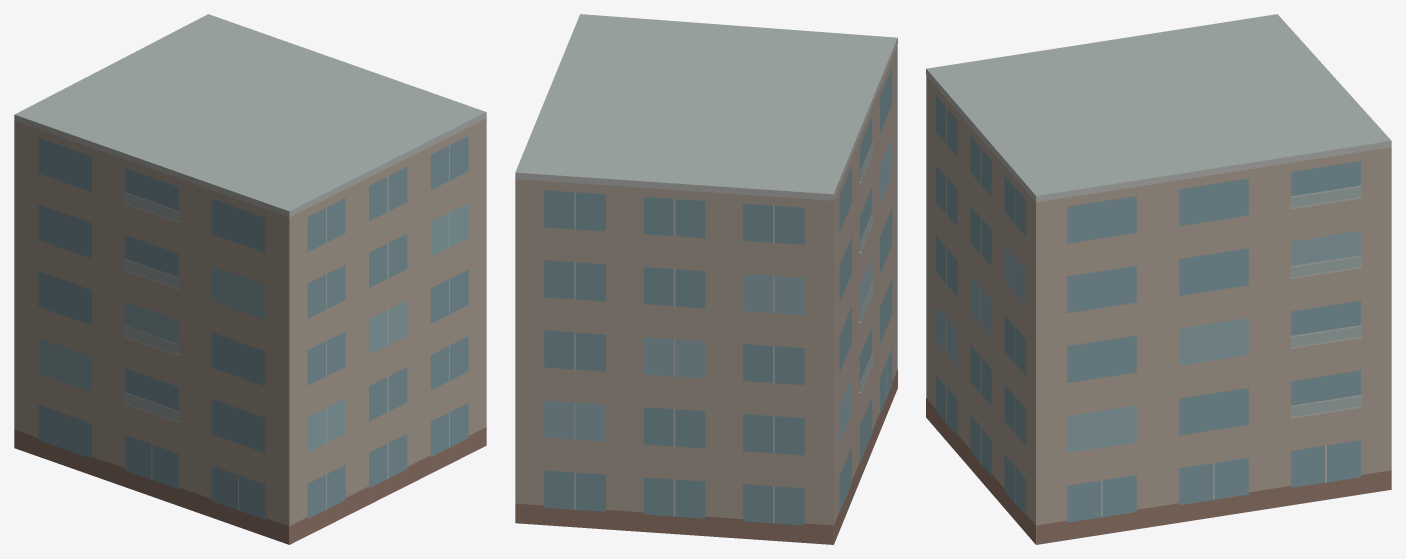
File: survey-upis-32853961.glb
3 renders of one model, left to right at view 1: azimuth 30°, elevation 25°; view 2: azimuth 150°, elevation 25°; view 3: azimuth 270°, elevation 25°, orthographic. The views are drawn at different scales.
Visible parts, largest first — view 1: survey-upis-32853961.tmp; view 2: survey-upis-32853961.tmp; view 3: survey-upis-32853961.tmp.
Part boxes in pixels (<box>): survey-upis-32853961.tmp: <box>14,14,486,544</box>; survey-upis-32853961.tmp: <box>515,14,897,544</box>; survey-upis-32853961.tmp: <box>926,14,1391,544</box>.
Size of the model in its own units: 14.84 by 13.25 by 16.03.
